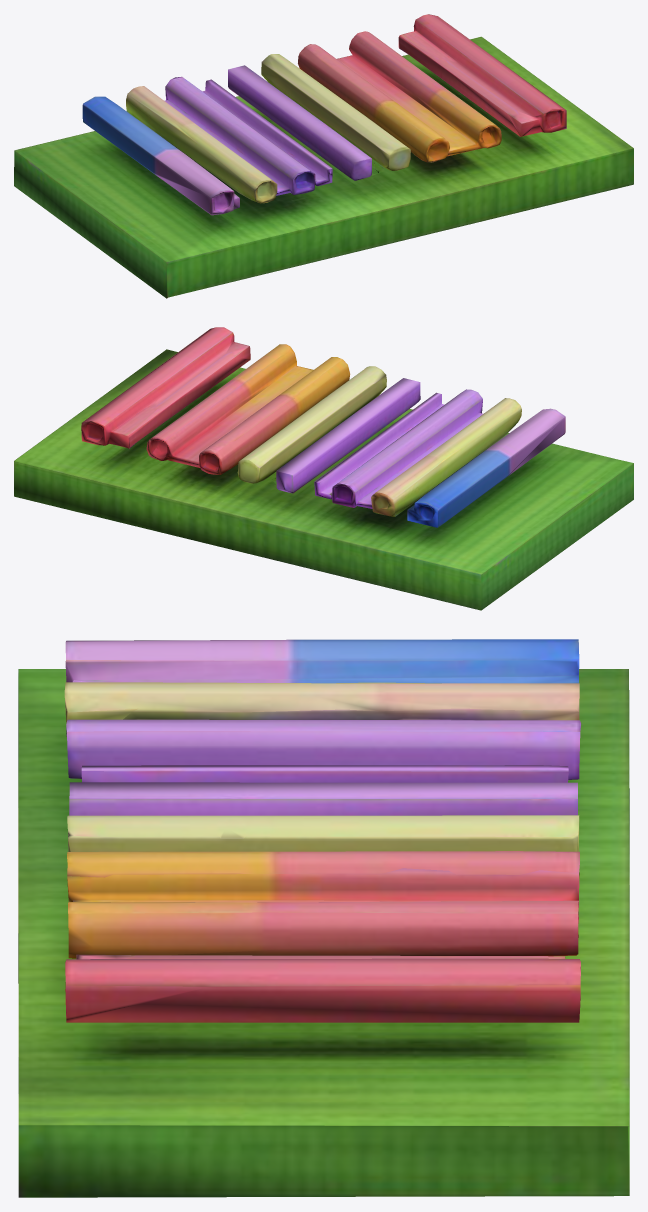
File: xylophone.glb
3 views of the same model, one above another, from view 1: azimuth 30°, elevation 25°; view 2: azimuth 150°, elevation 25°; view 3: azimuth 270°, elevation 25° (orthographic). The views are drawn at different scales.
Visible parts, largest first — view 1: xylophone; view 2: xylophone; view 3: xylophone.
Boxes of the visible parts, x1,y1,x2,y2 form: xylophone: (14,14,633,298); xylophone: (14,327,633,610); xylophone: (18,639,629,1197).
Bounding box in the file's own units: 0.9996 × 0.171 × 0.5658.
Materials: 1 (1 with a texture image).
